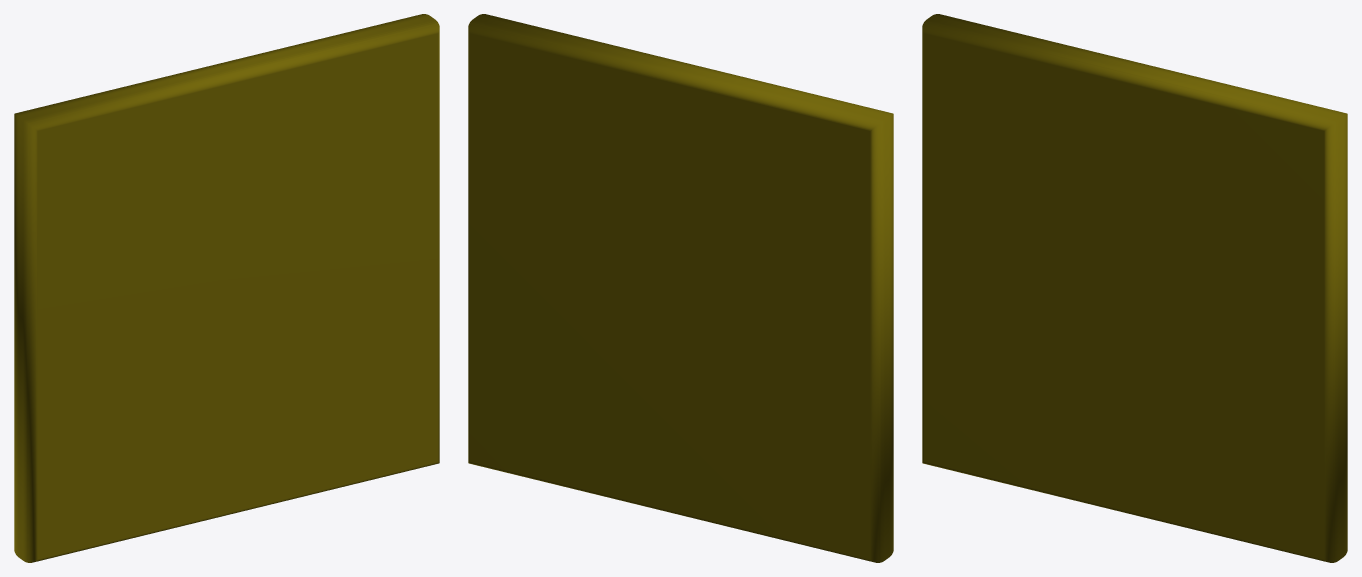
Rendered from CheeseTwo.obj.
3 renders of one model, left to right at view 1: azimuth 30°, elevation 25°; view 2: azimuth 150°, elevation 25°; view 3: azimuth 330°, elevation 25°, orthographic.
Parts seen in each view (by area): view 1: Cheese; view 2: Cheese; view 3: Cheese.
Part boxes in pixels (x1,y1,x2,y2): Cheese: (14,14,439,562); Cheese: (468,14,893,562); Cheese: (922,14,1347,562).
Bounding box in the file's own units: 0.1378 × 0.1409 × 0.0126.
